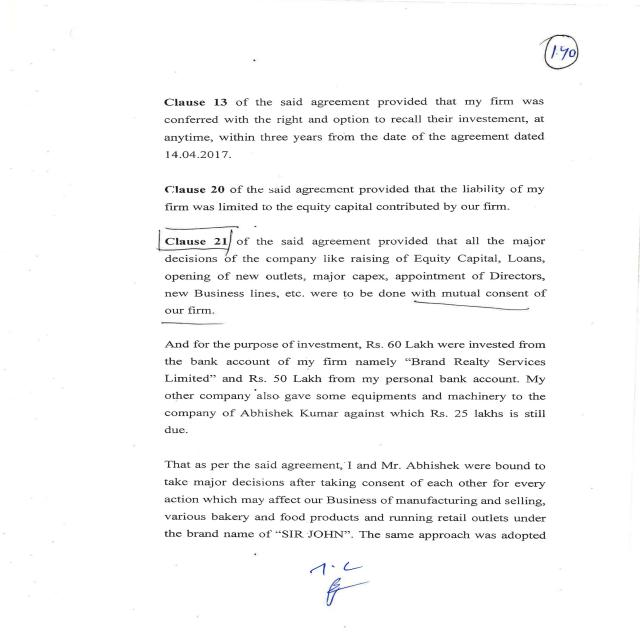page-number: (384, 0, 640, 90)
